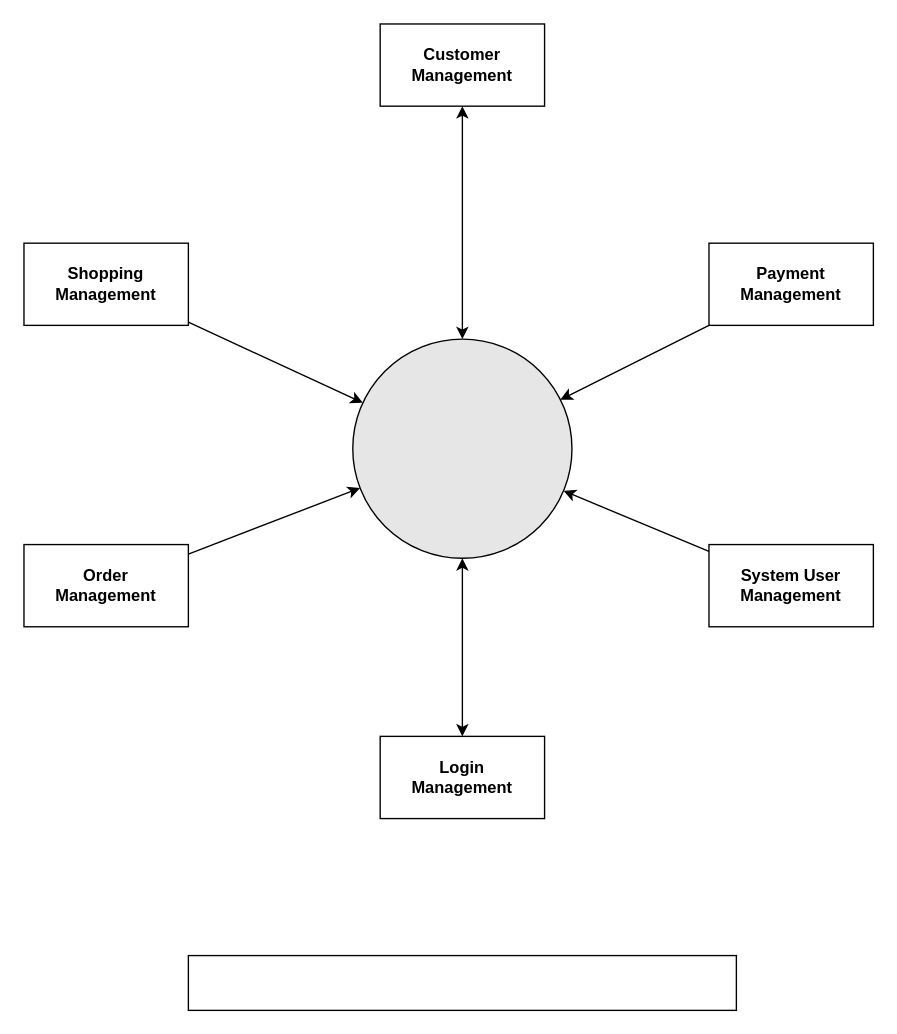
This 897x1034 diagram has some shape labels left out. The shapes that lost their labels are listed below. From the top down, each one's box as (x1, y1, x2, y2) in pixels, then its label:
(351, 338, 572, 558): Online Shopping System
(187, 954, 736, 1010): Zero Level DFD - E commerce website
